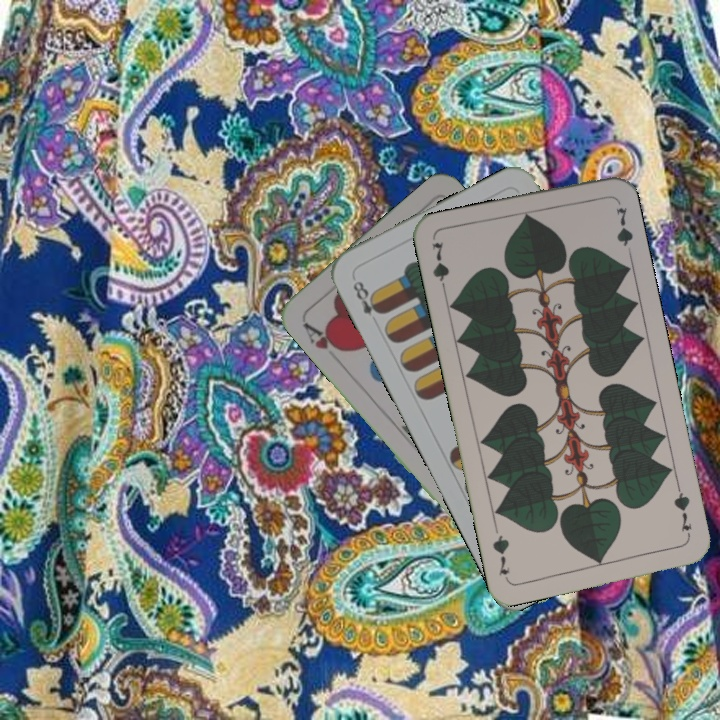E8: (349, 277, 386, 328)
G7: (669, 482, 695, 541), (428, 237, 452, 297)
HA: (298, 317, 348, 355)
